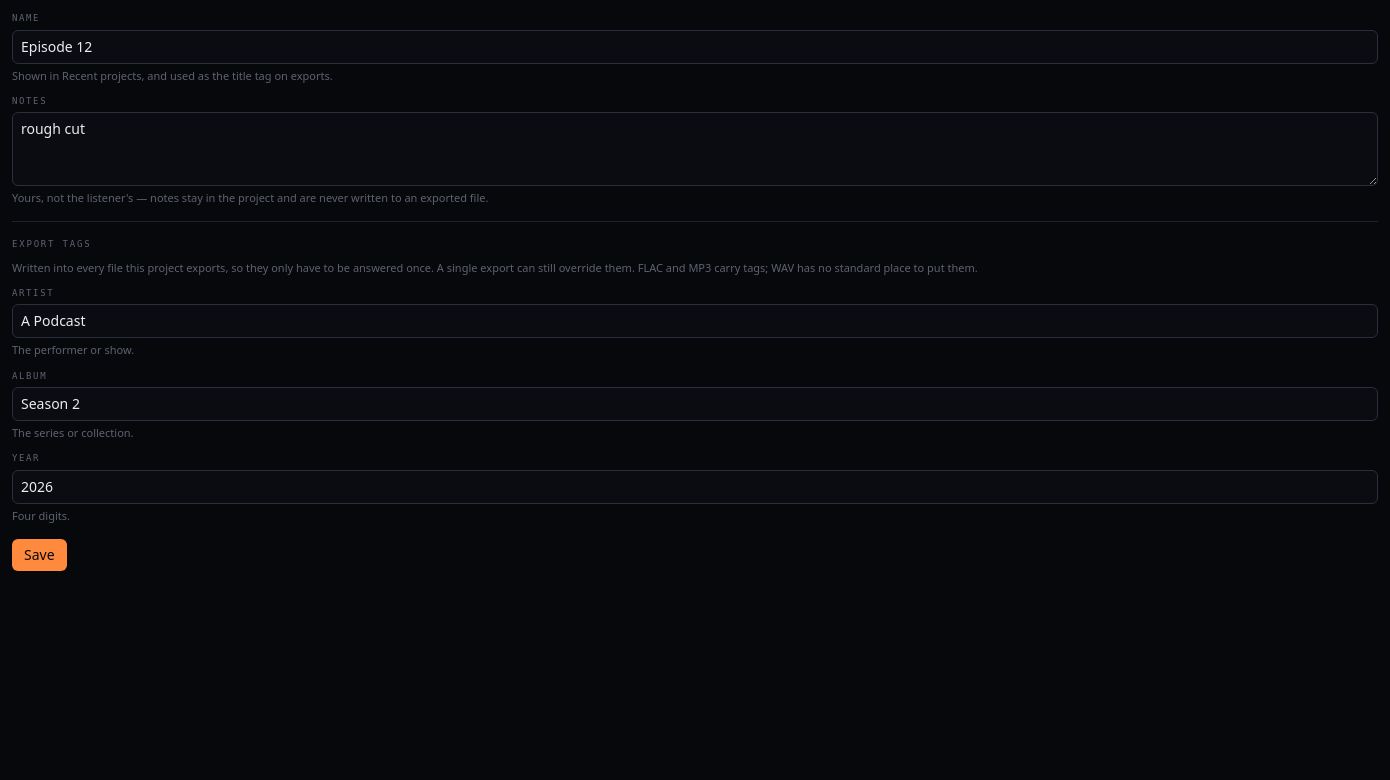
Test: the project editor › says so when it saved
The width and height of the screenshot is (1390, 780).
Expected: the field with test id "project-name" is shown, [12,30,1378,64]
Click the button with test id "project-save" at (39, 555), box [12,539,67,571]
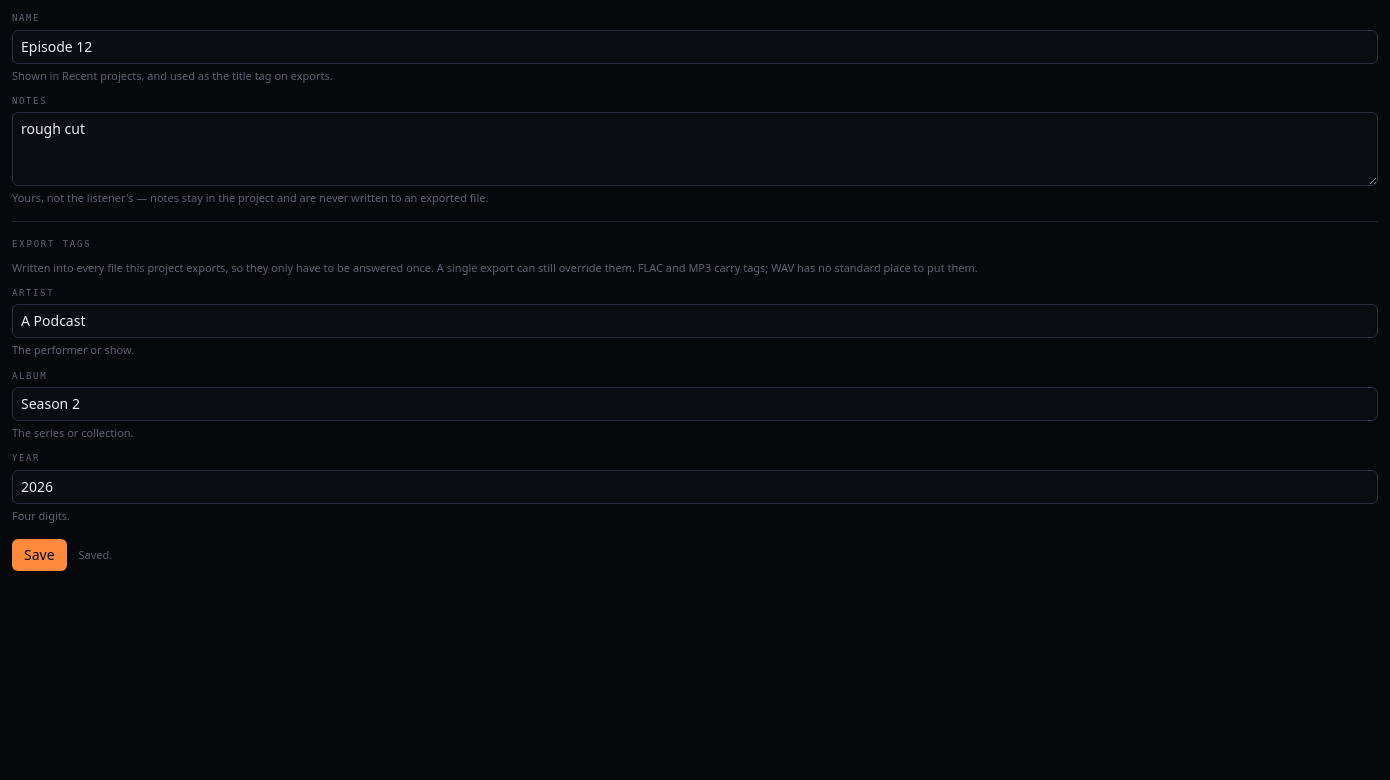
Expected: the text "Saved." is shown, [79,546,112,563]
